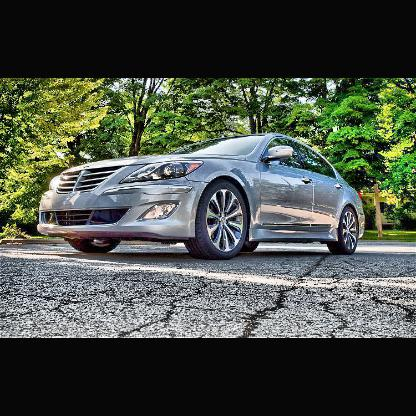Hyundai Genesis Sedan 2012: (40, 133, 365, 257)
